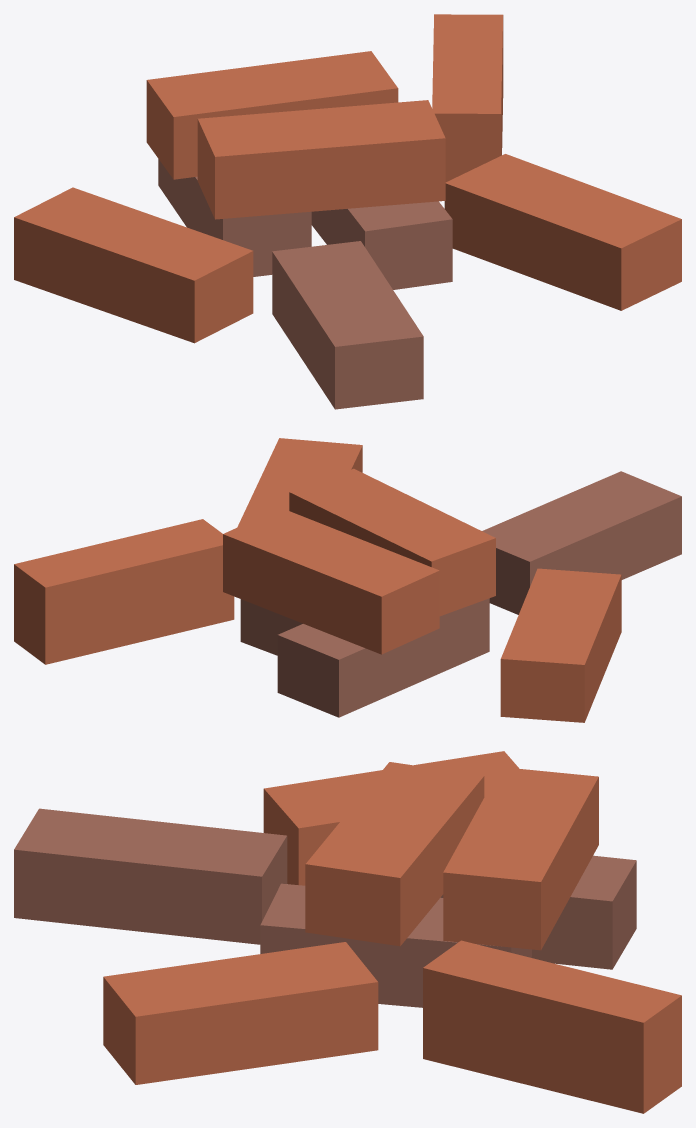
Rendered from Brick_Pile_m_10.fbx.
3 views of the same model, one above another, from view 1: azimuth 30°, elevation 25°; view 2: azimuth 150°, elevation 25°; view 3: azimuth 270°, elevation 25° (orthographic). The views are drawn at different scales.
Parts seen in each view (by area): view 1: Brick_Pile_m_10; view 2: Brick_Pile_m_10; view 3: Brick_Pile_m_10.
Part boxes in pixels (x1,y1,x2,y2): Brick_Pile_m_10: [14, 14, 681, 409]; Brick_Pile_m_10: [14, 438, 681, 722]; Brick_Pile_m_10: [14, 751, 681, 1113].
Bounding box in the file's own units: 0.6936 × 0.15 × 0.6648.
